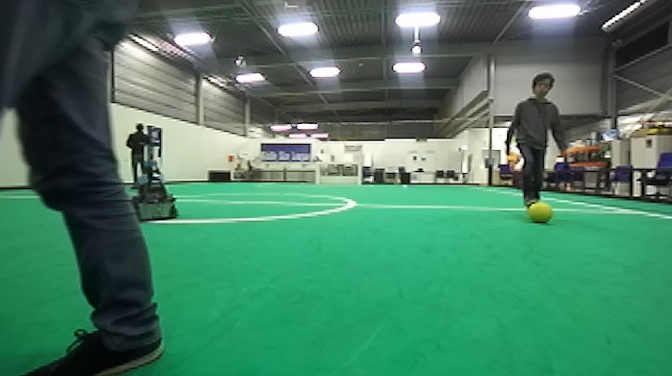ball: (526, 200, 556, 227)
goal: (315, 161, 363, 189)
goalpost: (314, 161, 321, 189), (356, 162, 363, 188)
human: (502, 70, 570, 218), (124, 119, 154, 194)
robot: (127, 141, 181, 221)
